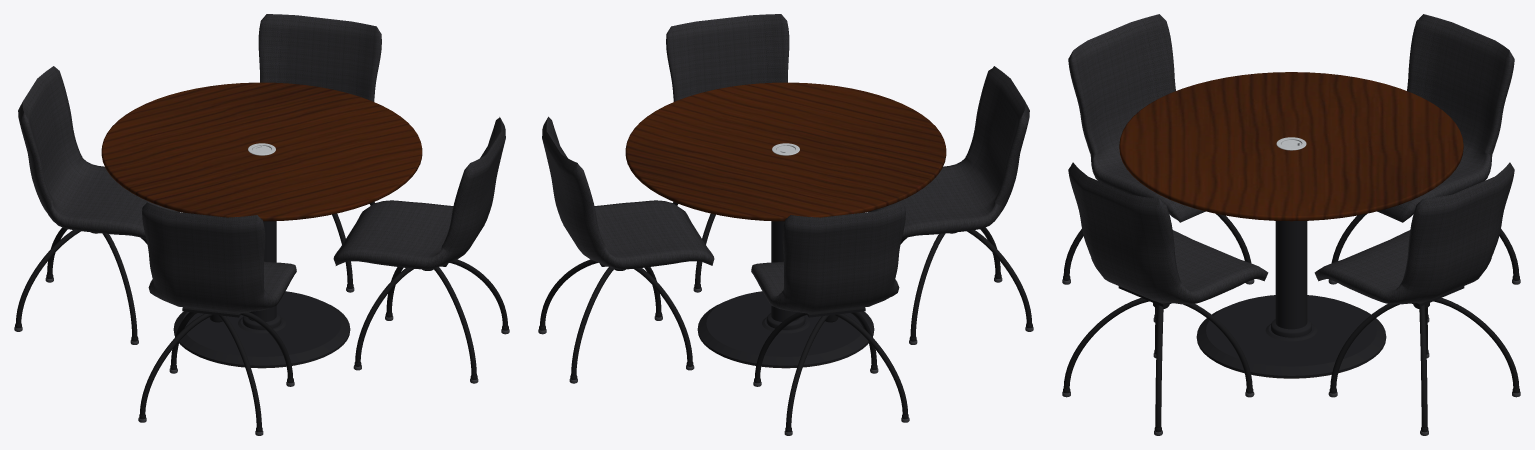
The model's file is Office_Meeting_Table_Round.glb.
The picture shows the model from 3 angles, left to right: view 1: azimuth 30°, elevation 25°; view 2: azimuth 150°, elevation 25°; view 3: azimuth 270°, elevation 25°; orthographic projection. The views are drawn at different scales.
Visible parts, largest first — view 1: Merged__j3, Merged__j0, Merged__j2; view 2: Merged__j3, Merged__j0, Merged__j2; view 3: Merged__j3, Merged__j0, Merged__j2.
Boxes of the visible parts, bbox=[...] form: Merged__j3: bbox=[18, 14, 505, 313]; Merged__j0: bbox=[101, 82, 422, 221]; Merged__j2: bbox=[14, 202, 509, 435]; Merged__j3: bbox=[542, 14, 1029, 313]; Merged__j0: bbox=[625, 82, 946, 221]; Merged__j2: bbox=[538, 202, 1033, 435]; Merged__j3: bbox=[1068, 14, 1514, 304]; Merged__j0: bbox=[1119, 72, 1463, 221]; Merged__j2: bbox=[1062, 213, 1520, 435].
Bounding box in the file's own units: 1.6 × 0.8958 × 1.6.
4 materials, 4 textured.
